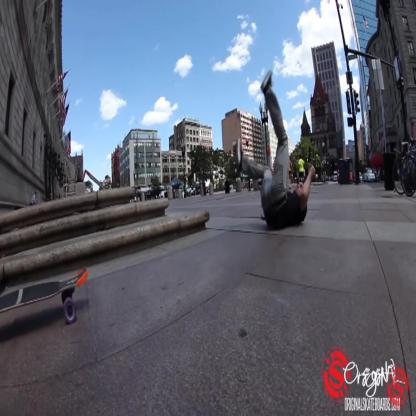Fall_Down: (233, 68, 316, 232)
